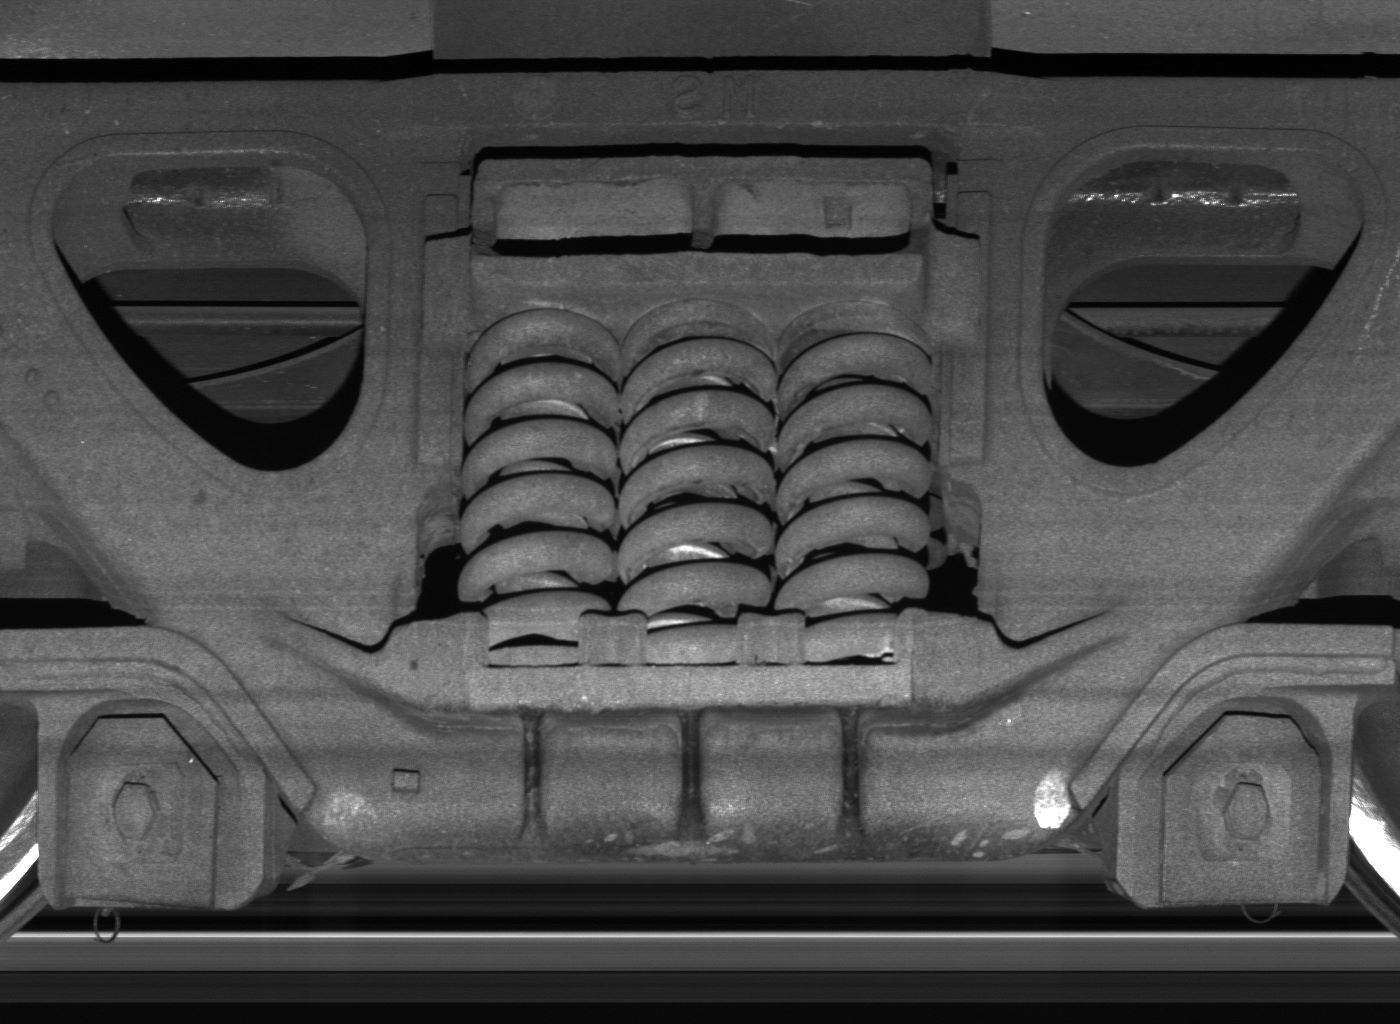locking plate: (39, 699, 263, 912)
normal: (1117, 696, 1350, 907)
